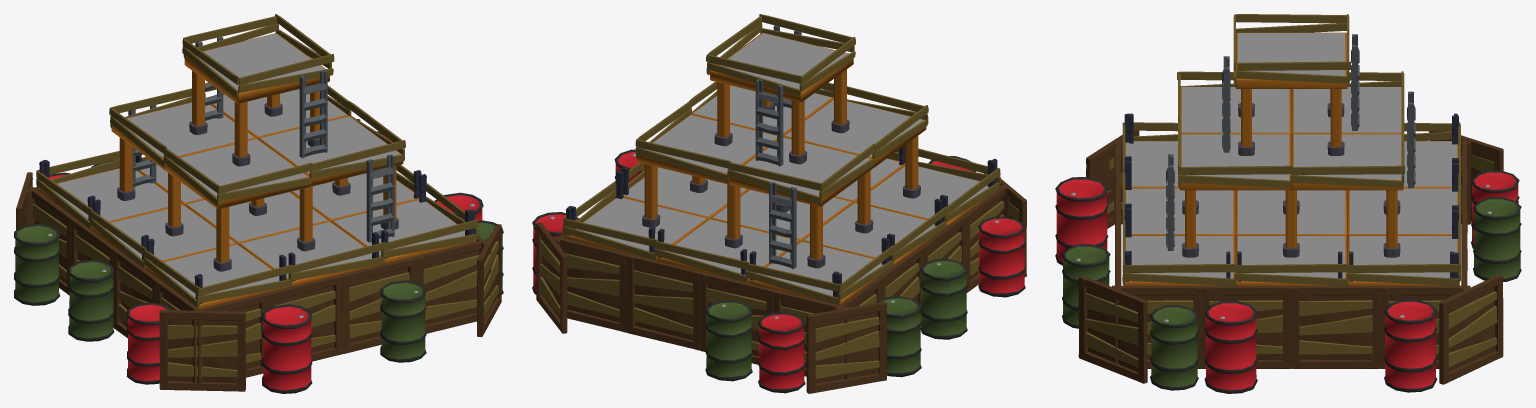
File: SmallBunker 1.fbx
The picture shows the model from 3 angles, left to right: view 1: azimuth 30°, elevation 25°; view 2: azimuth 150°, elevation 25°; view 3: azimuth 270°, elevation 25°; orthographic projection. The views are drawn at different scales.
Parts seen in each view (by area): view 1: SmallBunker.014; view 2: SmallBunker.014; view 3: SmallBunker.014.
Part boxes in pixels (<box>): SmallBunker.014: <box>14,14,503,393</box>; SmallBunker.014: <box>532,14,1026,393</box>; SmallBunker.014: <box>1055,14,1521,393</box>.
Size of the model in its own units: 12.39 by 7.63 by 12.51.
11 materials, 1 textured.
